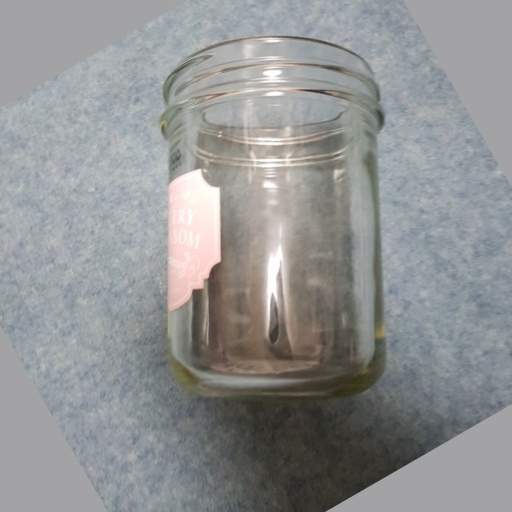Glass_5: (158, 30, 395, 405)
